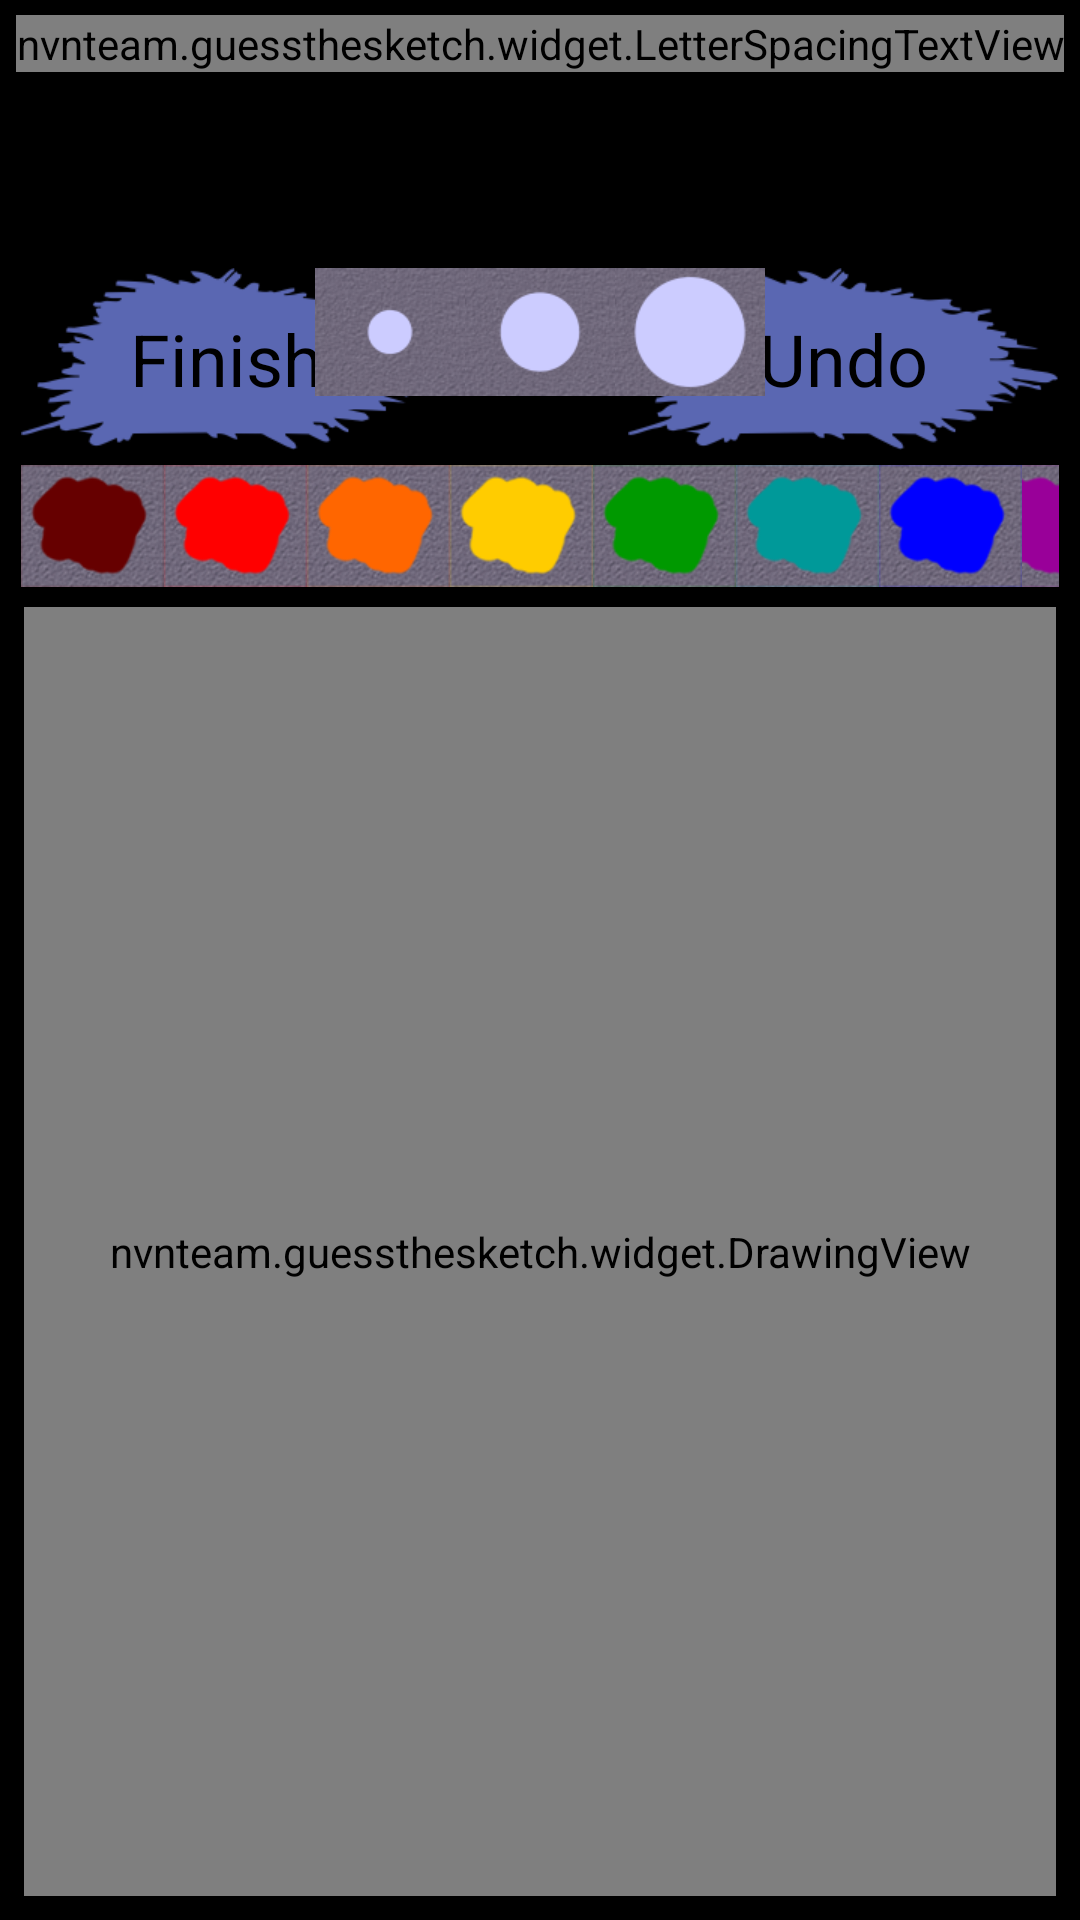

Point at icon controls on the screen. Image size 1080 x 1920, points as point (x, y).
Large: point (690, 332)
Medium: point (540, 332)
Small: point (390, 332)
